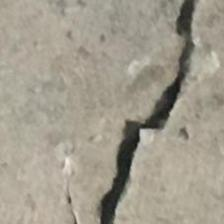Crack: (94, 0, 207, 224)
